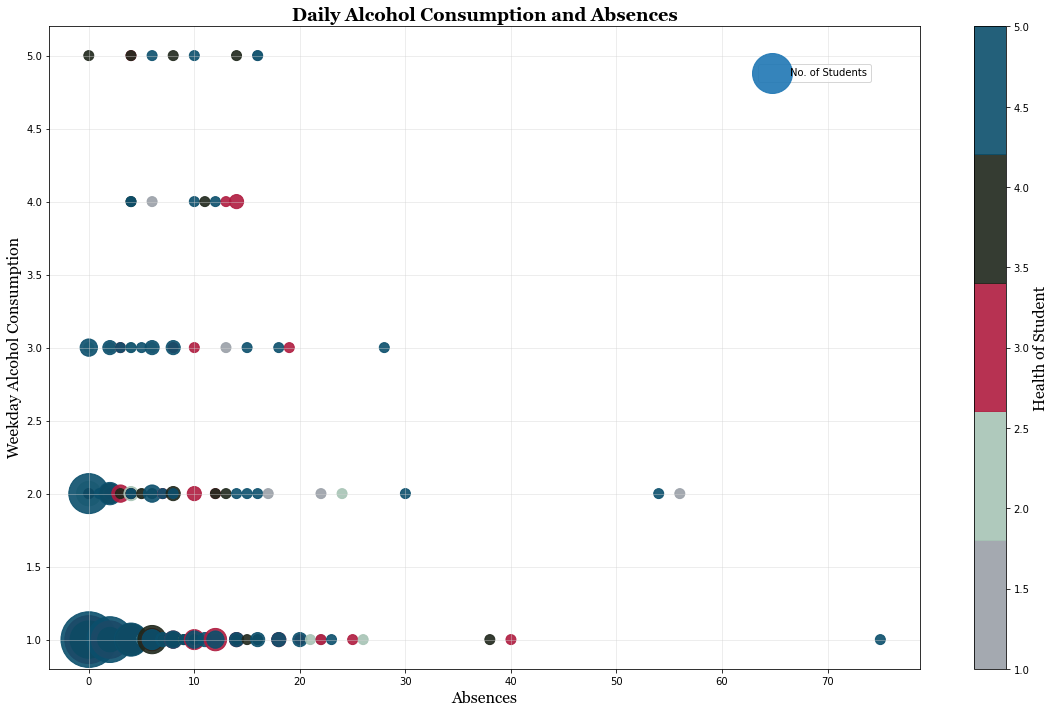

Layout of this report page (visuals, bound fields, positions):
{"tool":"tableau","page":{"name":"Dashboard 1","canvas":[1000,1000],"units":"permille","ordinal":0},"visuals":[{"type":"worksheet","param":"Image/IMG_0132.jpg","box":[206.9,0,752.7,343.8]},{"type":"worksheet","param":"[Parameters].[Parameter 2]","box":[3.3,11.5,131.9,63]},{"type":"worksheet","param":"[Parameters].[Parameter 1]","box":[6.6,103.2,131.9,63]},{"type":"worksheet","param":"[Parameters].[Parameter 3]","box":[7.4,216.3,131.9,96]},{"type":"worksheet","title":"Sheet 1","mark":"Automatic","rows":["Calculation_114912176334389251","Calculation_114912176334389251"],"cols":["airline"],"box":[0,338.1,683.4,664.8]}]}

Visuals, with their boxes on the dashboard's canvas, which has no fixed pixel size, in thousandths of its width and height (x1, y1, x2, y2). These are canvas units, not pixel positions in the 1055x712 screenshot, which may show the page scaled, cropped or inside an application window:
worksheet: left=207, top=0, right=960, bottom=344
worksheet: left=3, top=12, right=135, bottom=74
worksheet: left=7, top=103, right=138, bottom=166
worksheet: left=7, top=216, right=139, bottom=312
"Sheet 1" worksheet: left=0, top=338, right=683, bottom=1003
